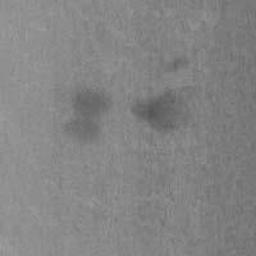Oil spot: (58, 78, 116, 150), (127, 83, 197, 137), (157, 54, 193, 74)
